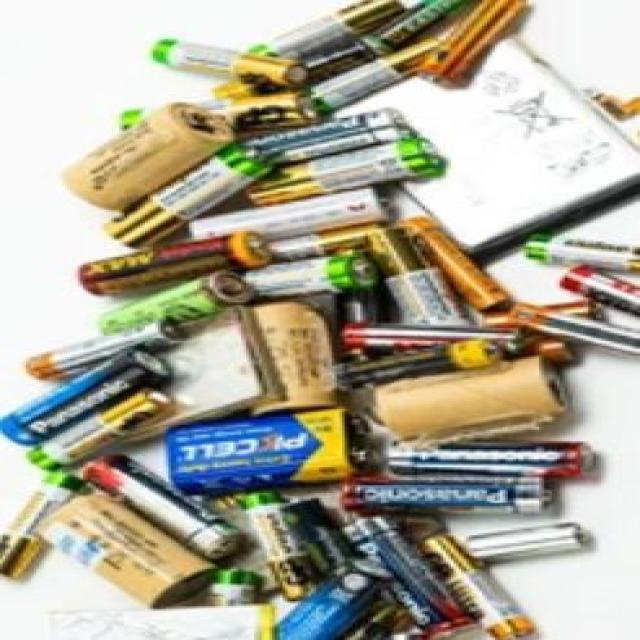electronic: (154, 395, 407, 520), (57, 246, 324, 347), (64, 95, 244, 232), (32, 352, 225, 479), (255, 138, 485, 220)
